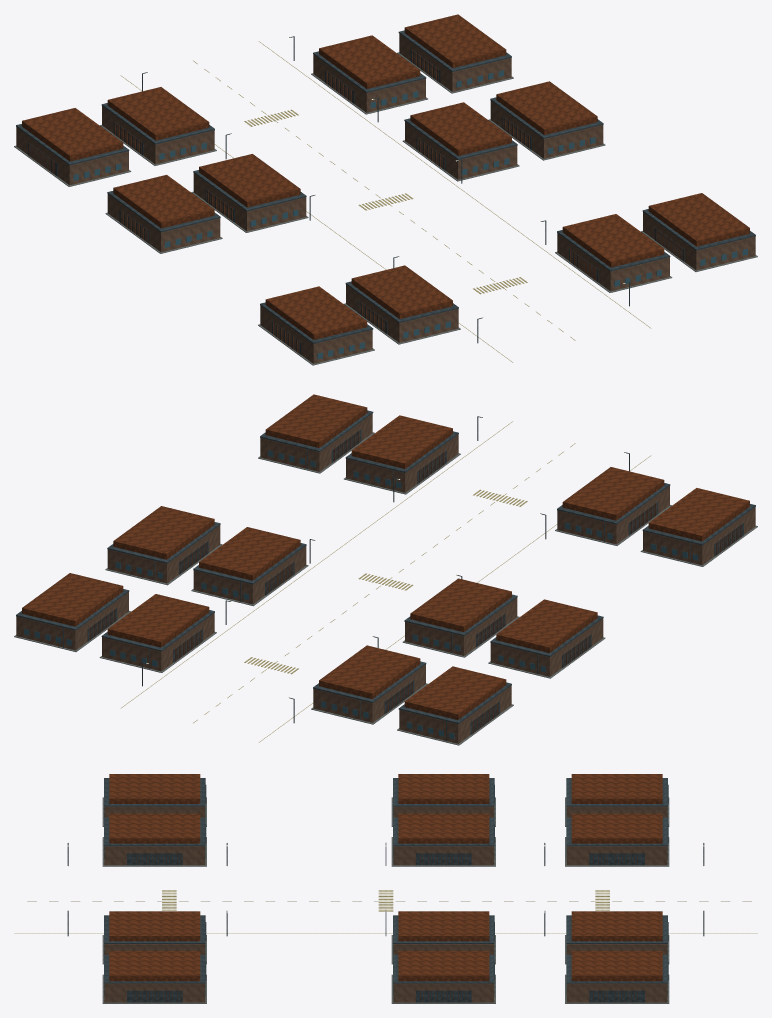
Rendered from map_1_v1.glb.
3 renders of one model, top to bottom at view 1: azimuth 30°, elevation 25°; view 2: azimuth 150°, elevation 25°; view 3: azimuth 270°, elevation 25°, orthographic. The views are drawn at different scales.
Parts seen in each view (by area): view 1: oxidized_metal, warm_facade, galvanized_steel, aged_concrete, smoked_glass, worn_road_paint; view 2: oxidized_metal, warm_facade, galvanized_steel, aged_concrete, smoked_glass, worn_road_paint; view 3: oxidized_metal, warm_facade, galvanized_steel, aged_concrete, worn_road_paint.
Boxes of the visible parts, box(x1,y1,x2,y2) form: oxidized_metal: box(22, 14, 749, 353); warm_facade: box(16, 33, 755, 363); galvanized_steel: box(16, 30, 755, 354); aged_concrete: box(14, 52, 757, 365); smoked_glass: box(73, 70, 747, 359); worn_road_paint: box(120, 41, 651, 362); oxidized_metal: box(22, 394, 749, 733); warm_facade: box(16, 413, 755, 743); galvanized_steel: box(16, 410, 755, 741); aged_concrete: box(14, 432, 757, 745); smoked_glass: box(24, 450, 698, 739); worn_road_paint: box(120, 421, 651, 742); oxidized_metal: box(109, 774, 662, 1002); warm_facade: box(104, 806, 667, 1002); galvanized_steel: box(67, 778, 704, 1002); aged_concrete: box(102, 797, 669, 1003); worn_road_paint: box(14, 890, 757, 933).
Size of what is drawn, in the model's own units: 135 by 8 by 206.
7 materials, 5 textured.
